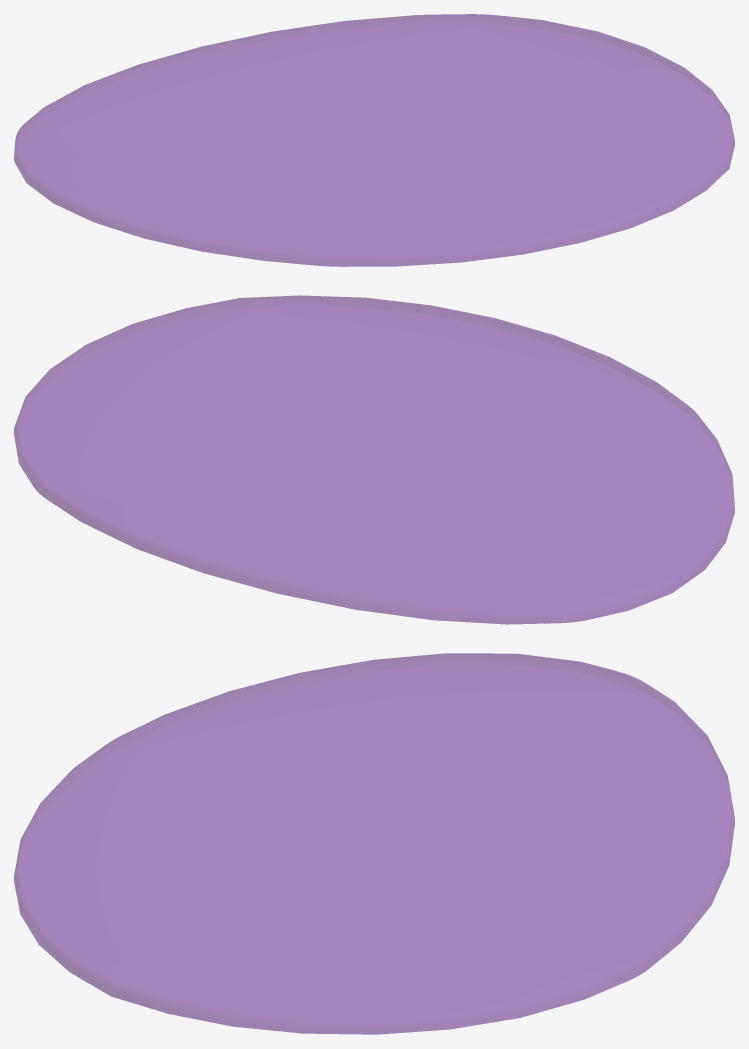
Rendered from EtherealEssence.fbx.
The picture shows the model from 3 angles, top to bottom: view 1: azimuth 30°, elevation 25°; view 2: azimuth 150°, elevation 25°; view 3: azimuth 270°, elevation 25°; orthographic projection. The views are drawn at different scales.
Parts seen in each view (by area): view 1: Plane; view 2: Plane; view 3: Plane.
Boxes of the visible parts, x1,y1,x2,y2 form: Plane: [14, 14, 734, 266]; Plane: [14, 295, 734, 624]; Plane: [14, 653, 734, 1034].
Size of the model in its own units: 386 by 6.39 by 318.
